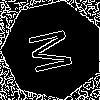M: (27, 25, 83, 75)
